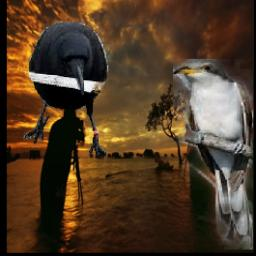Crow: (24, 20, 110, 160)
Cuckoo: (174, 59, 254, 250)
